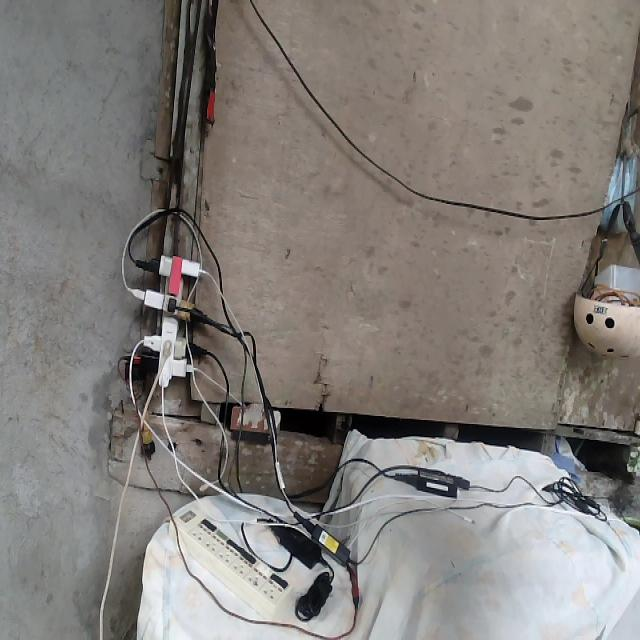-: (122, 252, 216, 392)
